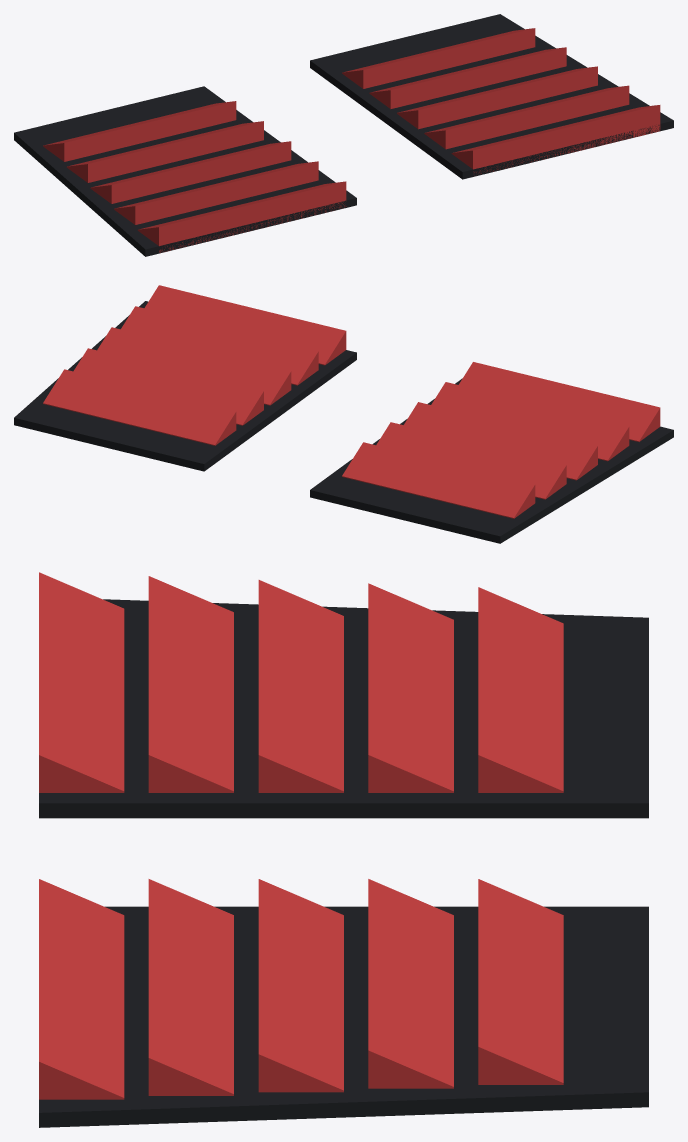
The model's file is hood_vents_b.glb.
The picture shows the model from 3 angles, top to bottom: view 1: azimuth 30°, elevation 25°; view 2: azimuth 150°, elevation 25°; view 3: azimuth 270°, elevation 25°; orthographic projection. The views are drawn at different scales.
Parts seen in each view (by area): view 1: Body; view 2: Body; view 3: Body.
Boxes of the visible parts, box(x1,y1,x2,y2) form: Body: box(14, 14, 673, 256); Body: box(14, 285, 673, 543); Body: box(39, 572, 648, 1127).
Size of the model in its own units: 1 by 0.048 by 0.5.
